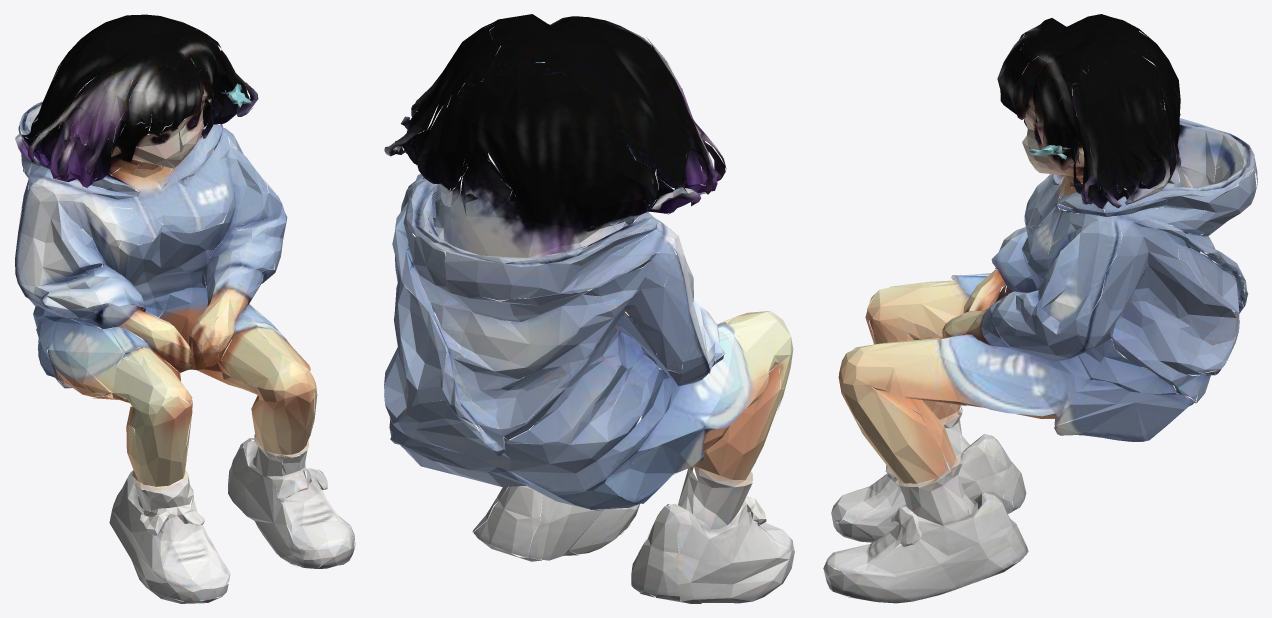
Rendered from char_luna.glb.
The picture shows the model from 3 angles, left to right: view 1: azimuth 30°, elevation 25°; view 2: azimuth 150°, elevation 25°; view 3: azimuth 270°, elevation 25°; orthographic projection. The views are drawn at different scales.
Visible parts, largest first — view 1: char_luna_model; view 2: char_luna_model; view 3: char_luna_model.
Boxes of the visible parts, bbox=[...] form: char_luna_model: bbox=[15, 14, 355, 603]; char_luna_model: bbox=[384, 14, 794, 603]; char_luna_model: bbox=[823, 14, 1257, 603].
Bounding box in the file's own units: 0.759 × 1.42 × 1.05.
1 material, 1 textured.
